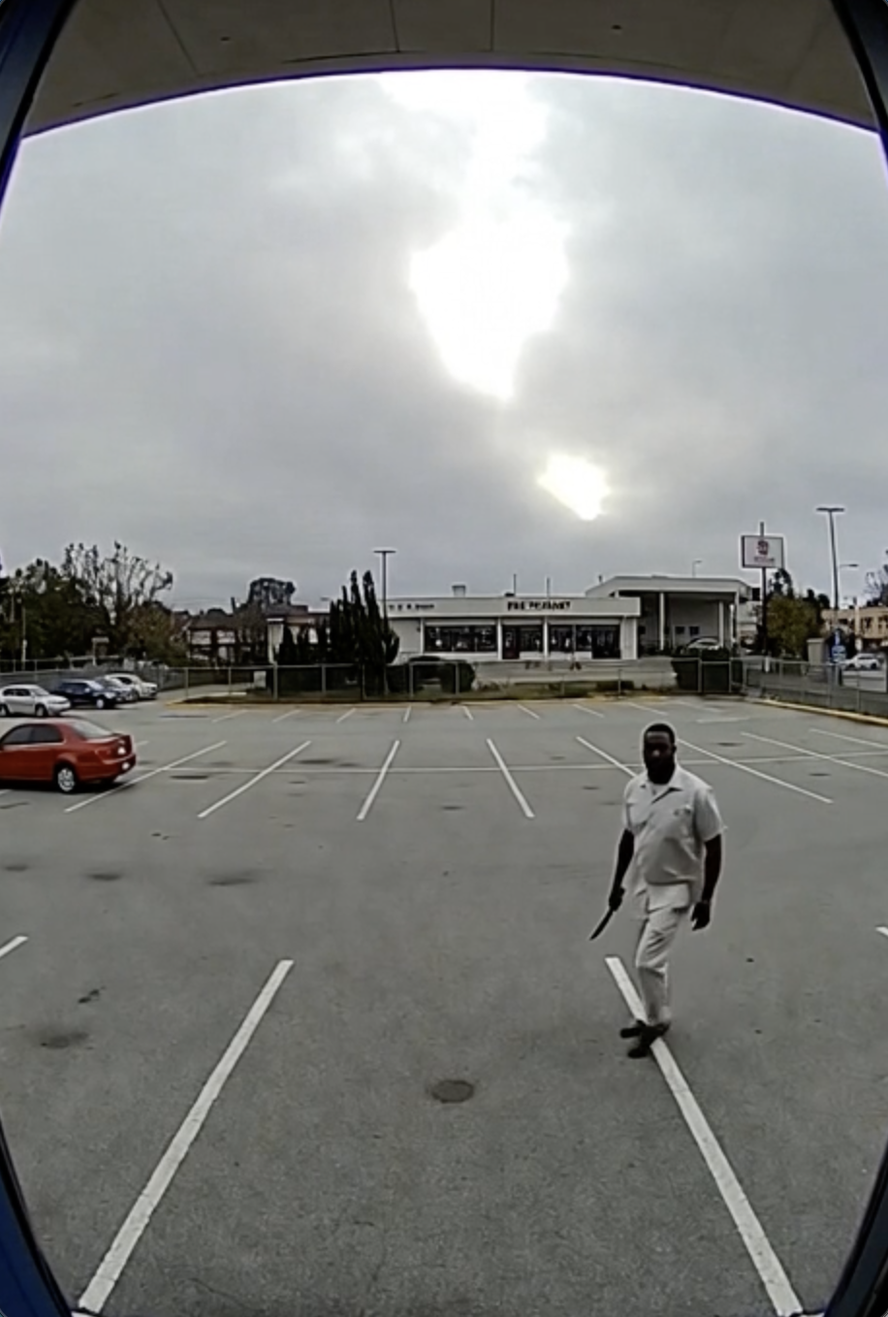Heavy Gun: (609, 727, 718, 1055)
Knife: (589, 889, 630, 943)
